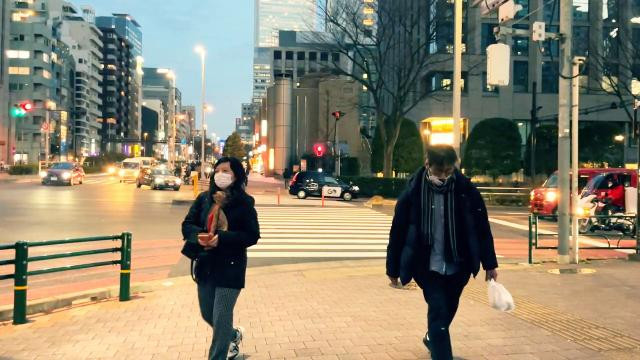berjalan: (381, 140, 519, 360), (182, 154, 260, 360), (180, 158, 180, 158)
